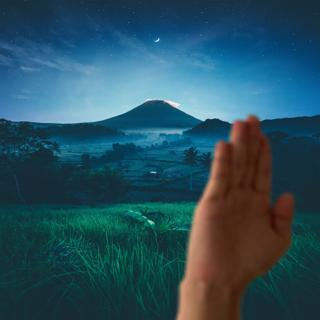RIGHT: (175, 107, 298, 302)
